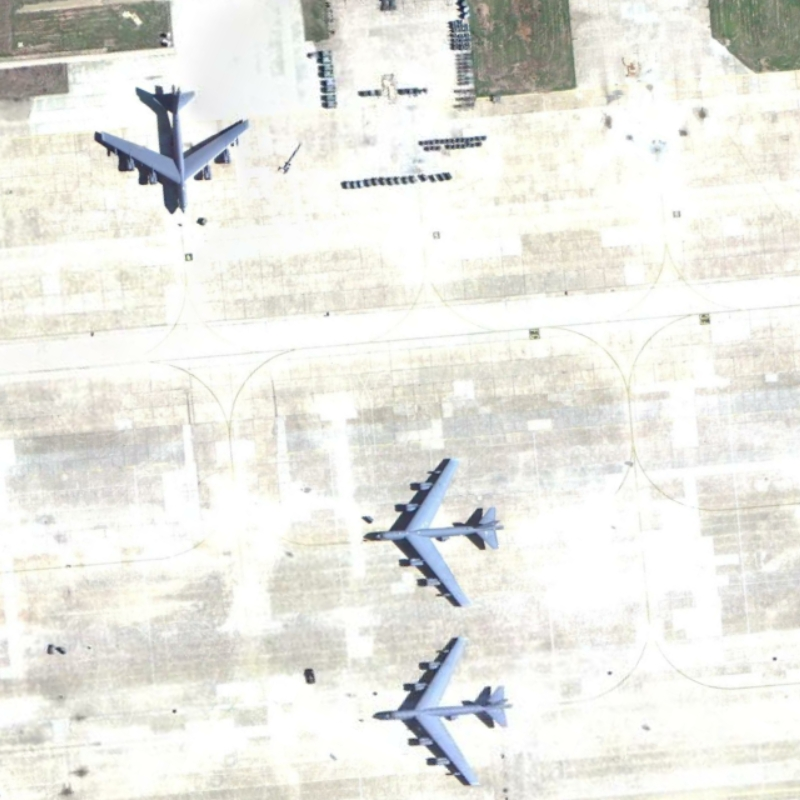A8: (355, 448, 510, 612), (365, 630, 510, 794), (89, 81, 251, 219)
